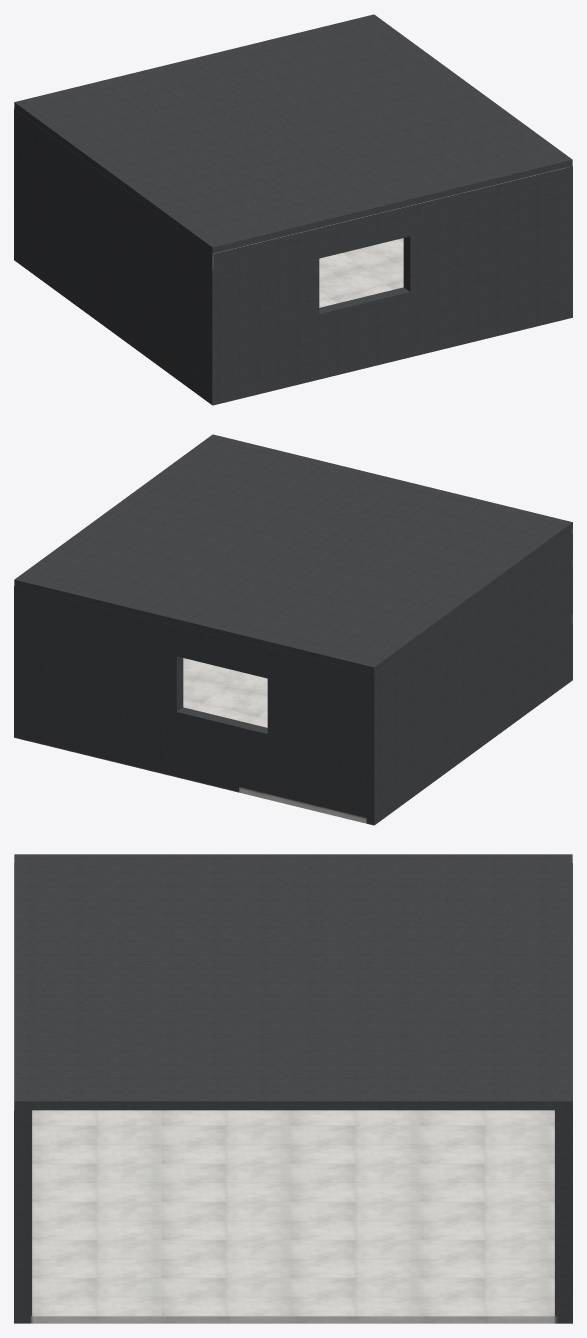
The model's file is house.fbx.
3 renders of one model, top to bottom at view 1: azimuth 30°, elevation 25°; view 2: azimuth 150°, elevation 25°; view 3: azimuth 270°, elevation 25°, orthographic. The views are drawn at different scales.
Visible parts, largest first — view 1: Cube.009; view 2: Cube.009; view 3: Cube.009.
Part boxes in pixels (box(x1,y1,x2,y2)): Cube.009: box(14, 14, 572, 405); Cube.009: box(14, 434, 572, 825); Cube.009: box(14, 854, 572, 1323).
Size of the model in its own units: 1098 by 460 by 1048.
